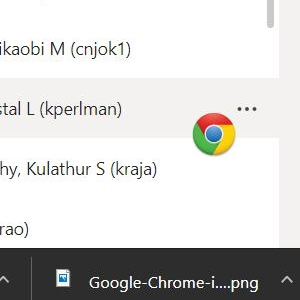chrome: (192, 112, 235, 156)
